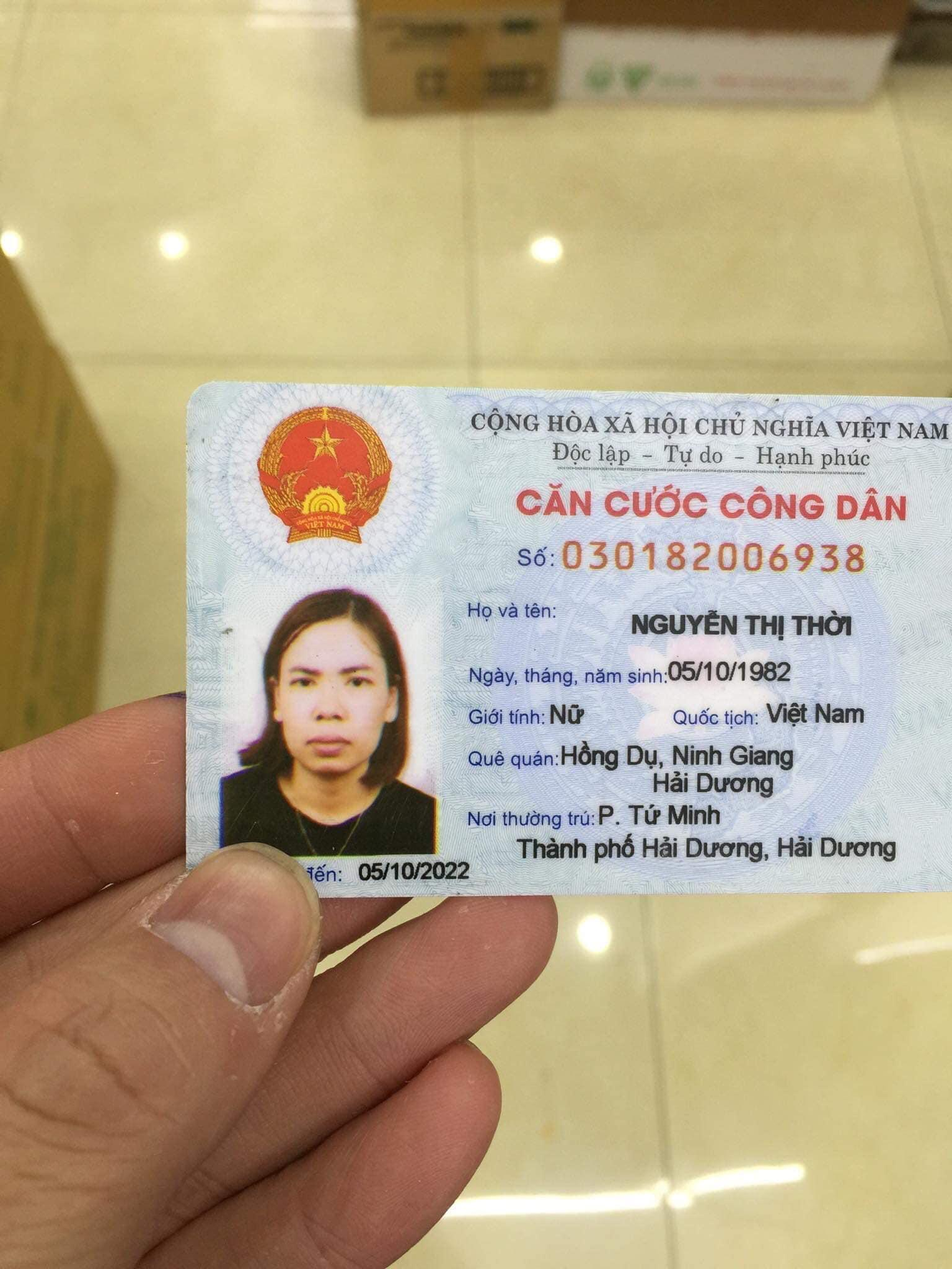image_person: (219, 560, 442, 860)
top_left: (178, 376, 223, 421)
